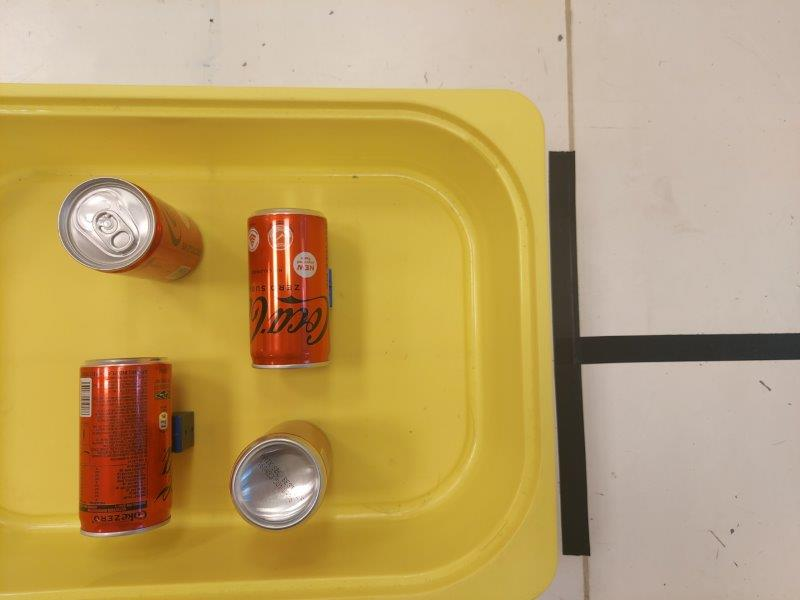Coke: (78, 357, 171, 535), (59, 178, 206, 284), (247, 209, 328, 371), (229, 420, 333, 531)
